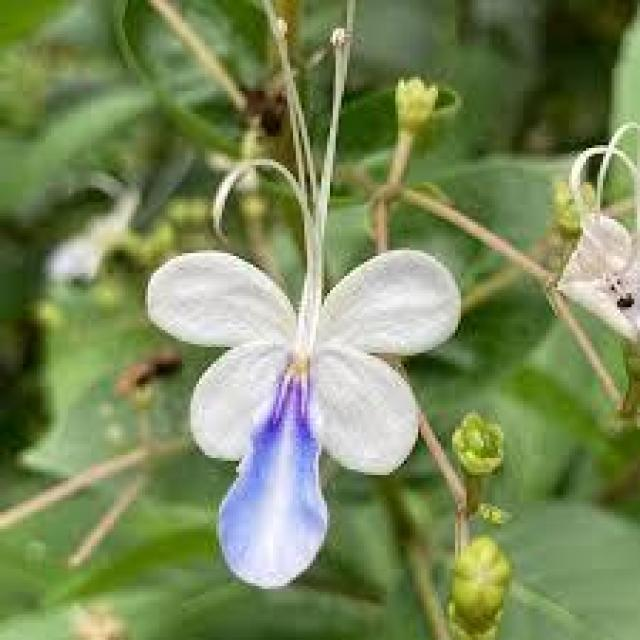organic waste: (127, 227, 442, 569)
